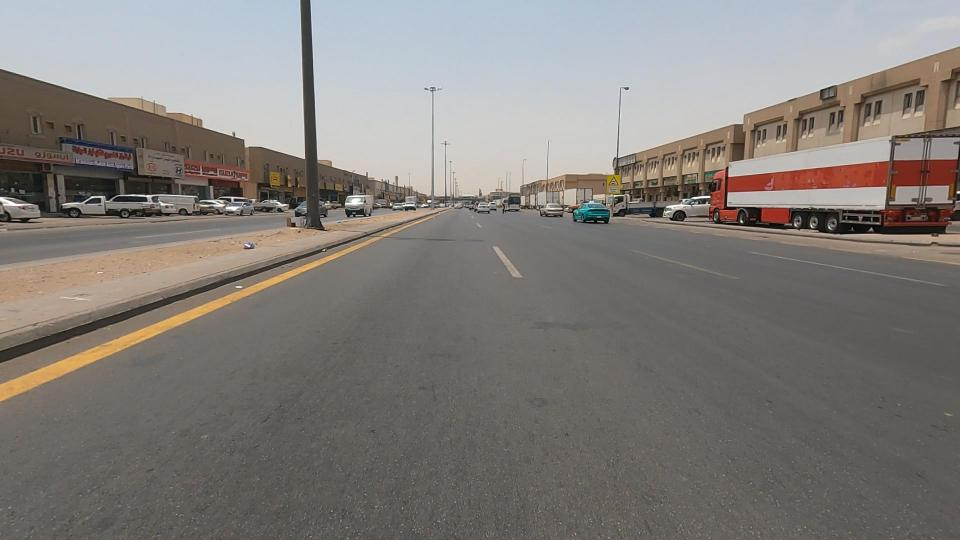GARBAGE: (212, 217, 280, 274)
